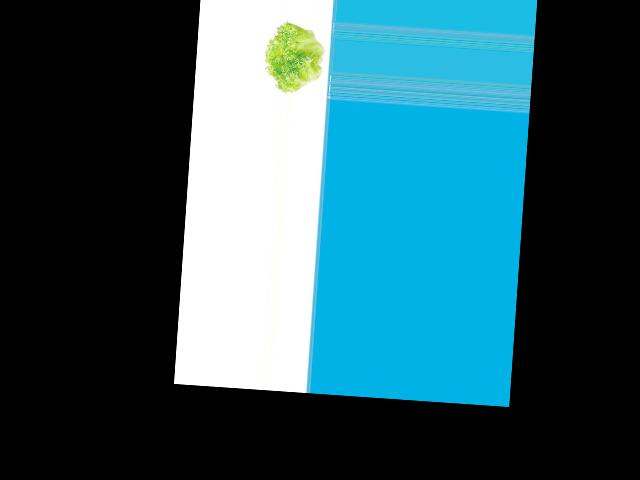lettuce: (260, 22, 330, 95)
